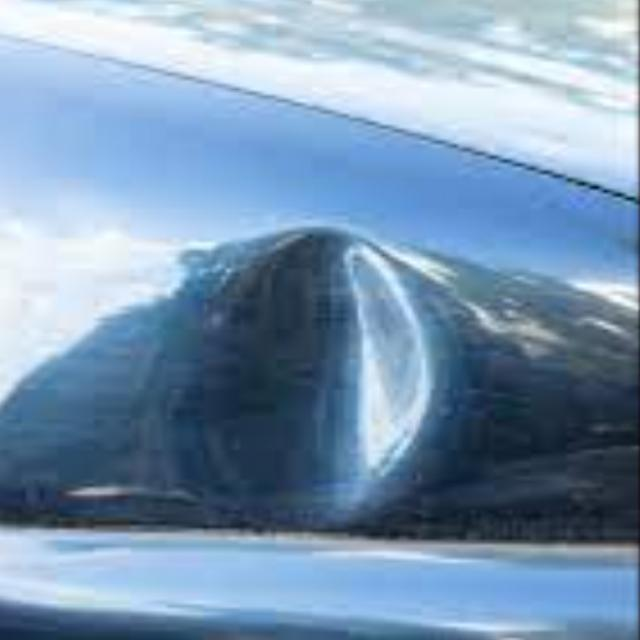dents: (133, 203, 480, 570)
